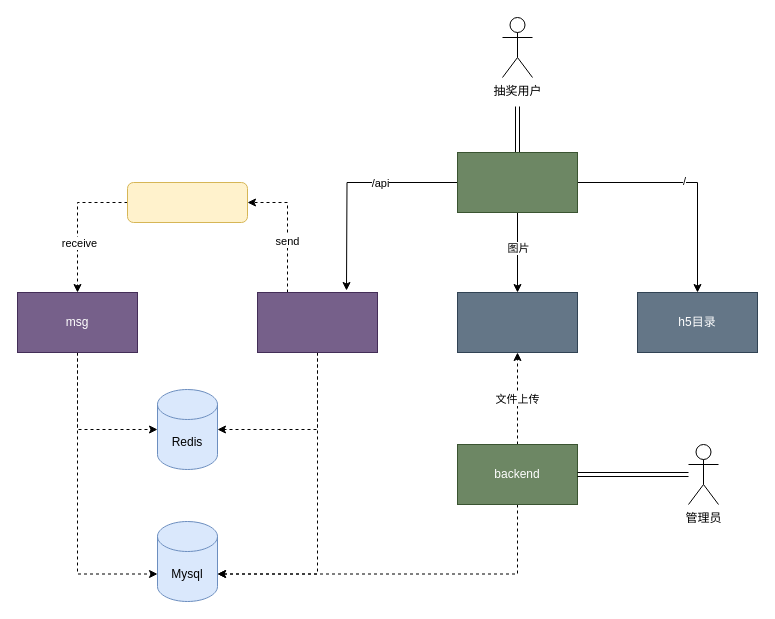
Some shapes in this 775 by 619 pixel diagram are drawn without their labels. Each missing label, with the centre of its shape:
"api" belongs at (x=317, y=322).
"Minio" belongs at (x=517, y=322).
"Nginx" belongs at (x=517, y=182).
"RabbitMq" belongs at (x=187, y=202).
